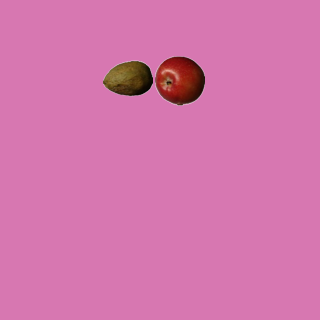Apple Braeburn: (154, 55, 204, 105)
Papaya: (102, 53, 152, 103)
